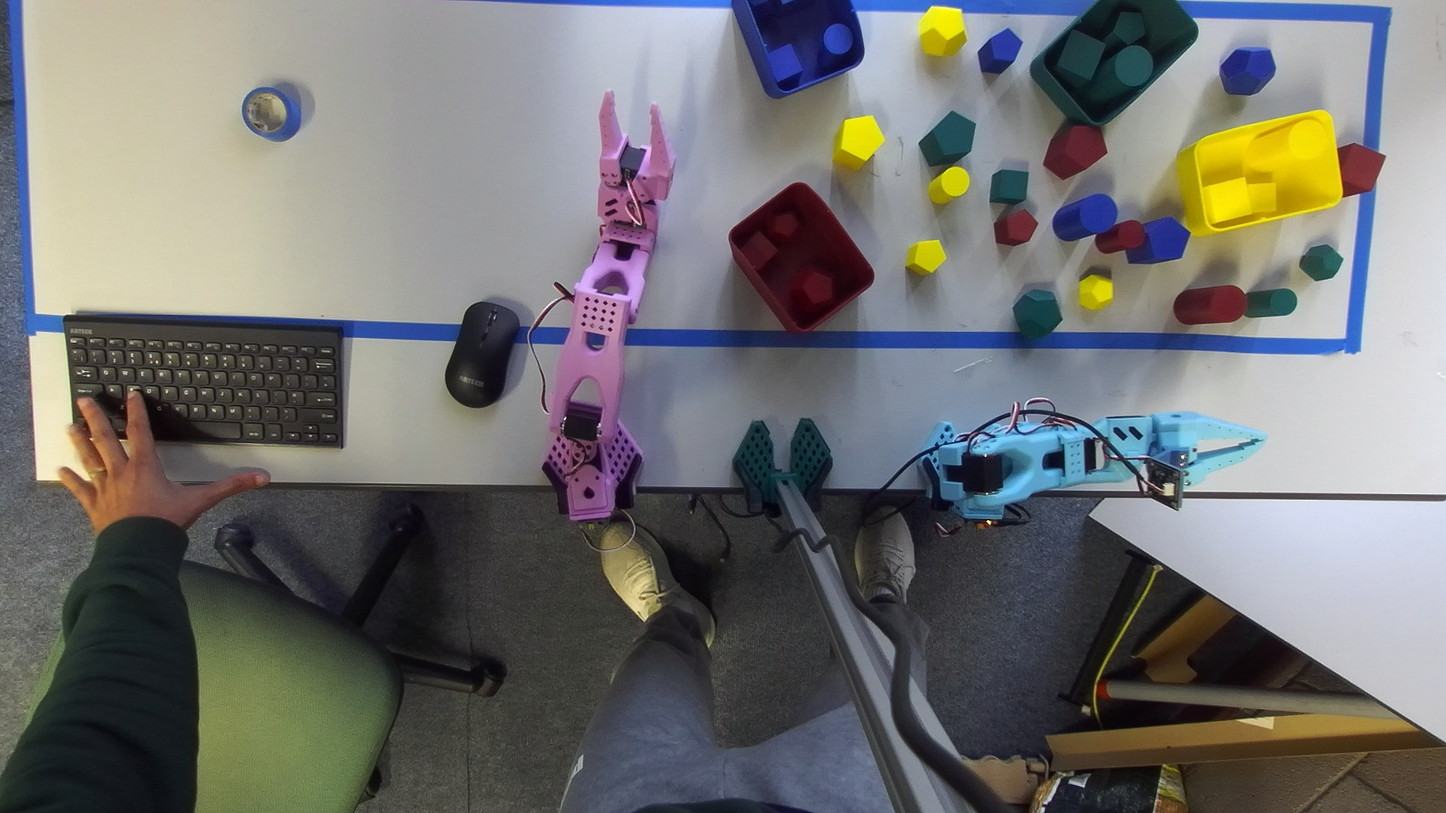bin: (1177, 110, 1383, 236), (728, 182, 874, 333), (1030, 0, 1197, 125), (732, 0, 863, 99)
cube: (1338, 143, 1385, 196), (1057, 30, 1104, 81), (1203, 178, 1252, 221), (768, 44, 803, 88), (990, 167, 1028, 204), (741, 231, 777, 270), (1247, 183, 1276, 214)
cylinder: (1084, 45, 1153, 104), (1051, 193, 1117, 241), (1173, 285, 1246, 324), (818, 22, 854, 72), (1095, 220, 1146, 253), (928, 165, 969, 204), (1244, 288, 1297, 318), (1288, 120, 1323, 159)
dodecahedron: (1219, 47, 1275, 95), (1012, 288, 1062, 338), (918, 6, 967, 56), (792, 266, 833, 312), (1299, 244, 1342, 281), (1078, 269, 1112, 309), (769, 212, 800, 242)
gripper: (599, 91, 675, 232), (1144, 412, 1267, 484)
hexagonal: (1043, 122, 1106, 178), (919, 111, 975, 166), (1126, 217, 1190, 263), (833, 115, 883, 169), (978, 28, 1022, 75), (993, 209, 1037, 245), (905, 239, 945, 274), (1105, 12, 1144, 44)
